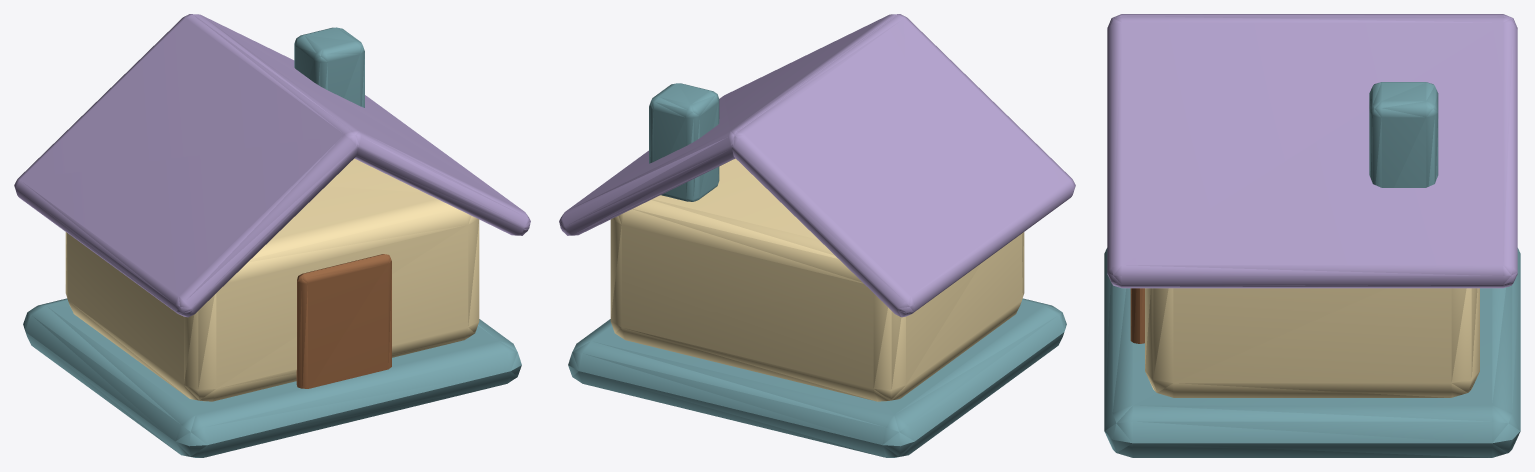
File: DW_Workshop.fbx
The picture shows the model from 3 angles, left to right: view 1: azimuth 30°, elevation 25°; view 2: azimuth 150°, elevation 25°; view 3: azimuth 270°, elevation 25°; orthographic projection. The views are drawn at different scales.
Visible parts, largest first — view 1: Workshop; view 2: Workshop; view 3: Workshop.
Boxes of the visible parts, x1=… form: Workshop: x1=14, y1=14, x2=530, y2=457; Workshop: x1=559, y1=14, x2=1075, y2=457; Workshop: x1=1104, y1=14, x2=1520, y2=457.
Size of the model in its own units: 2.42 by 1.91 by 2.05.
